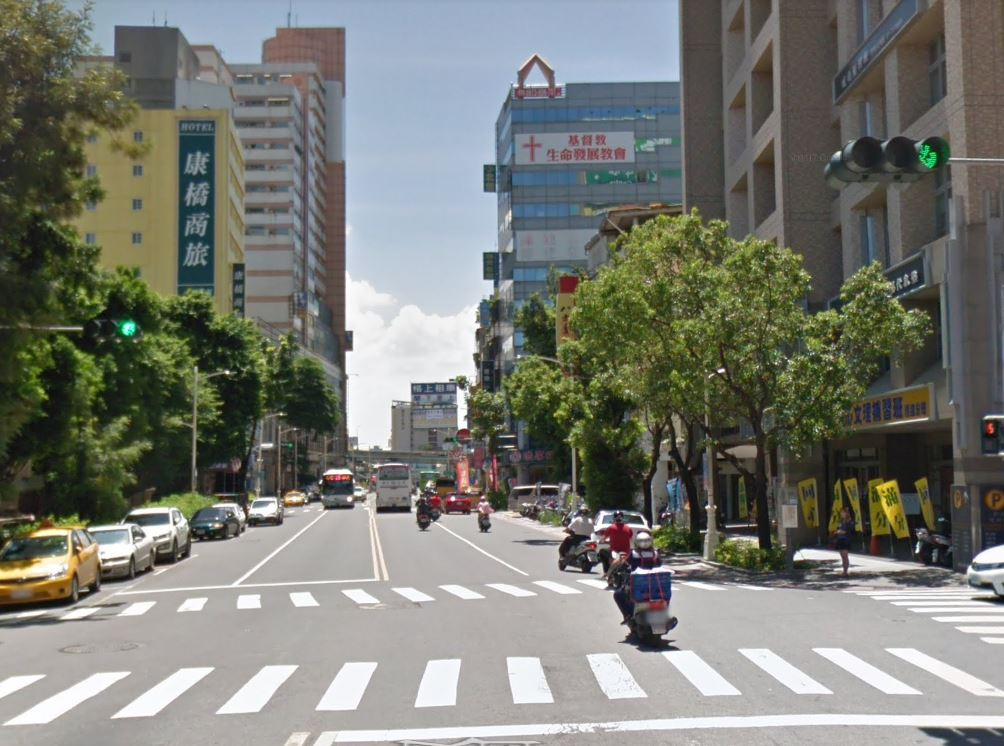Traffic_light_green: (823, 136, 950, 187), (82, 316, 145, 342)
